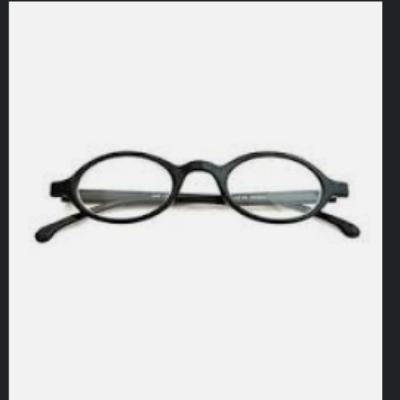glasses: (34, 141, 365, 260)
